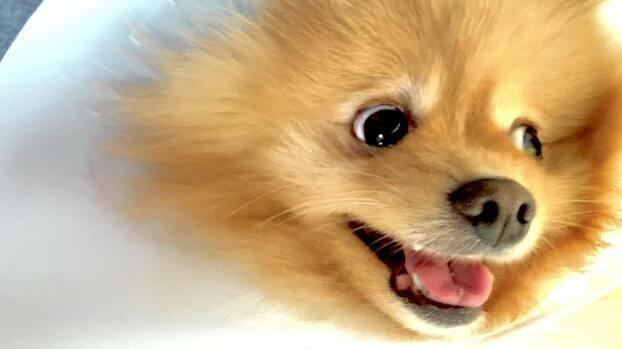adult_dog: (1, 1, 622, 349)
